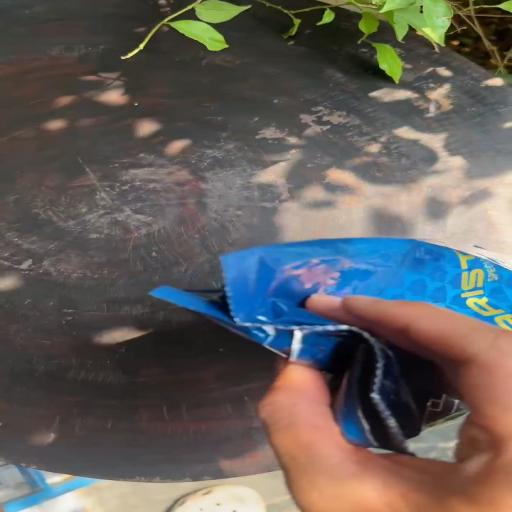cafe_hat: (149, 238, 511, 452)
